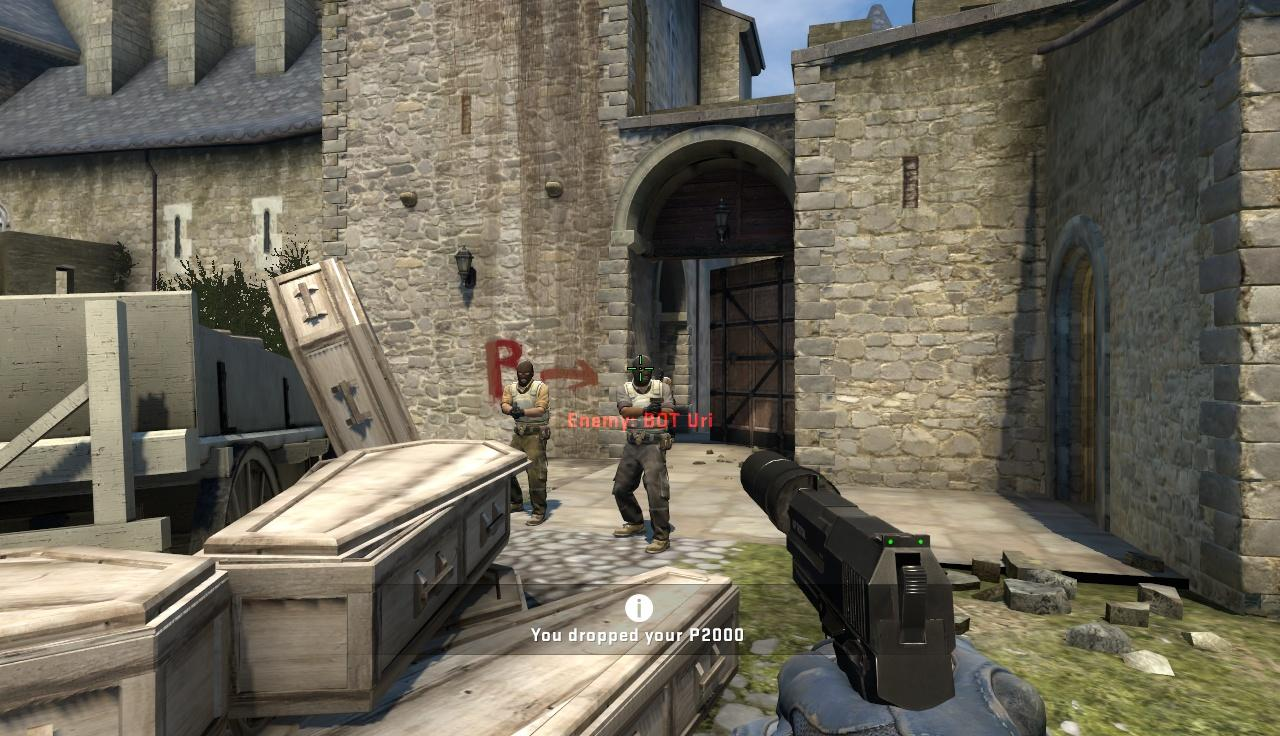pistol: (736, 439, 1039, 733)
tt: (612, 352, 676, 551), (502, 358, 556, 520)
tthead: (632, 355, 653, 385), (515, 358, 535, 387), (655, 368, 665, 381)
